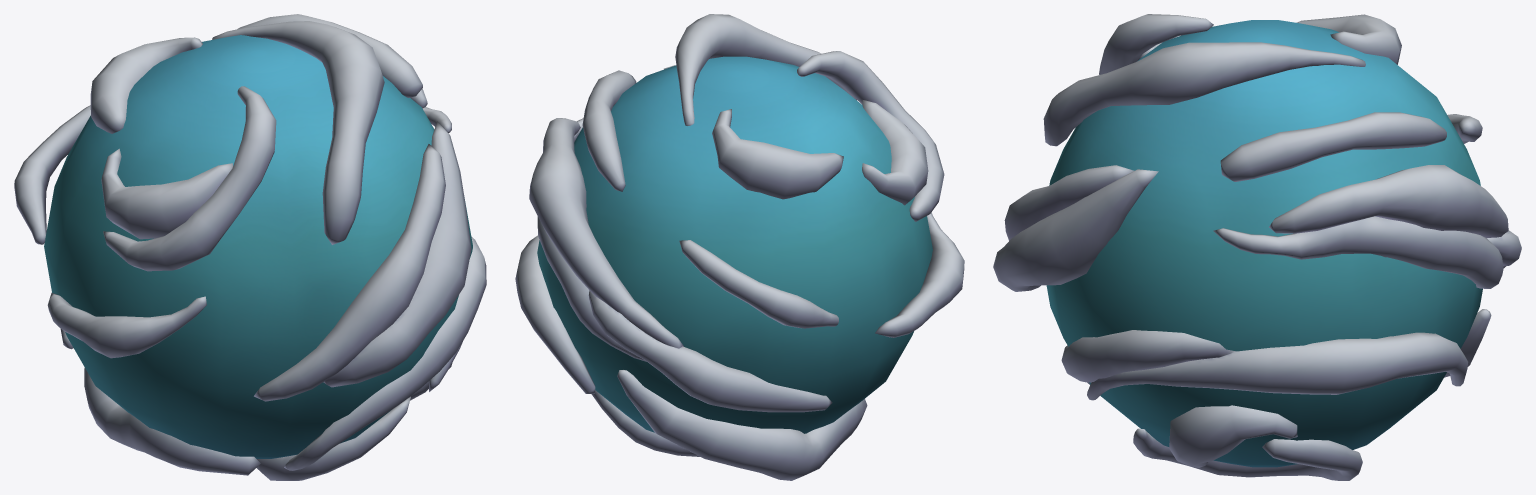
File: Planet_BlueClouds.fbx
The picture shows the model from 3 angles, left to right: view 1: azimuth 30°, elevation 25°; view 2: azimuth 150°, elevation 25°; view 3: azimuth 270°, elevation 25°; orthographic projection. The views are drawn at different scales.
Parts seen in each view (by area): view 1: Planet_BlueClouds, Planet_BlueClouds_Clouds; view 2: Planet_BlueClouds, Planet_BlueClouds_Clouds; view 3: Planet_BlueClouds, Planet_BlueClouds_Clouds.
Part boxes in pixels (x1,y1,x2,y2): Planet_BlueClouds: [44, 35, 472, 458]; Planet_BlueClouds_Clouds: [14, 14, 486, 480]; Planet_BlueClouds: [537, 56, 932, 433]; Planet_BlueClouds_Clouds: [515, 14, 964, 480]; Planet_BlueClouds: [1046, 20, 1482, 467]; Planet_BlueClouds_Clouds: [993, 14, 1521, 480].
Bounding box in the file's own units: 218 × 224 × 234.
